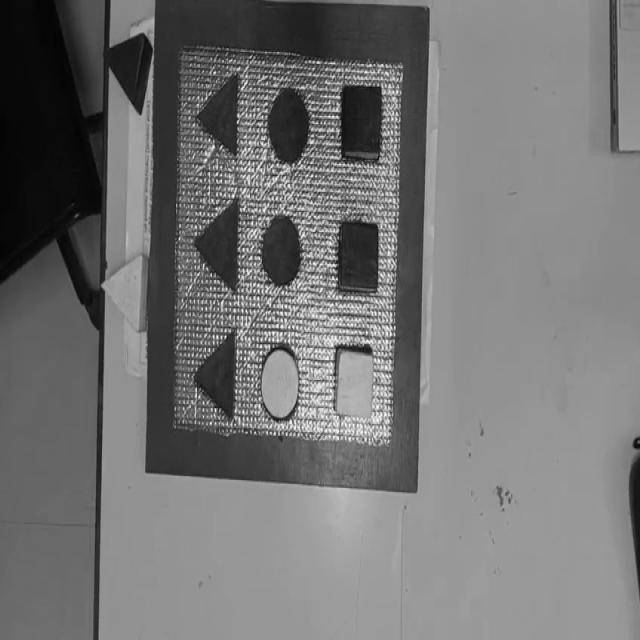bcube: (340, 82, 384, 165)
mtcircle: (267, 85, 311, 166), (260, 213, 303, 287)
mttriangle: (194, 199, 240, 293), (192, 331, 237, 421), (196, 72, 241, 158)
rcube: (338, 218, 381, 295)
rtriangle: (106, 32, 154, 118)
wb: (174, 41, 401, 448)
ycircle: (258, 343, 302, 424)
ycube: (333, 344, 376, 421)
ytriangle: (101, 254, 149, 332)
